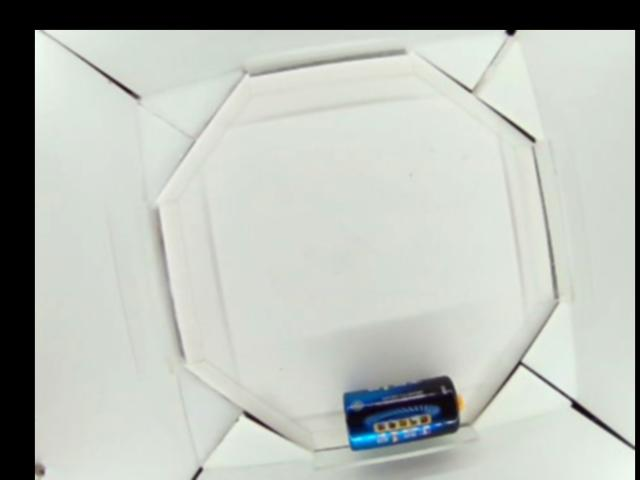Battery: (342, 375, 462, 449)
